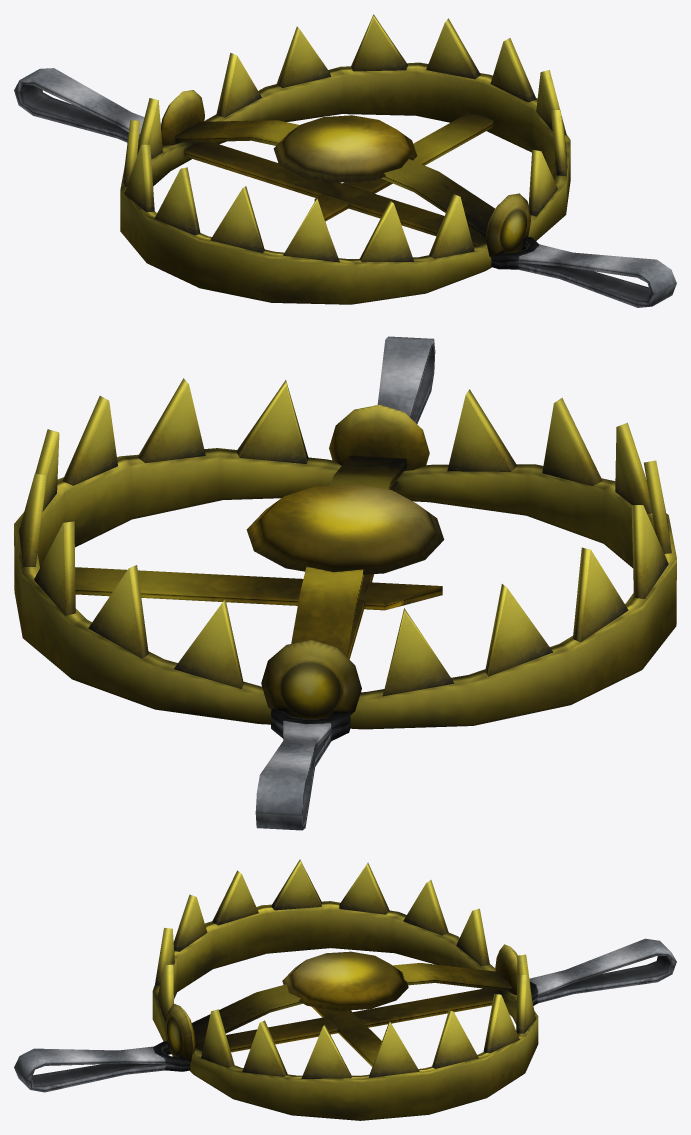
Rendered from bear trap open.fbx.
3 renders of one model, top to bottom at view 1: azimuth 30°, elevation 25°; view 2: azimuth 150°, elevation 25°; view 3: azimuth 270°, elevation 25°, orthographic. The views are drawn at different scales.
Visible parts, largest first — view 1: Opentrap1; view 2: Opentrap1; view 3: Opentrap1.
Part boxes in pixels (bbox=[...]): Opentrap1: bbox=[14, 14, 676, 307]; Opentrap1: bbox=[14, 336, 676, 830]; Opentrap1: bbox=[14, 859, 676, 1120].
Bounding box in the file's own units: 0.5758 × 0.142 × 0.9048.
